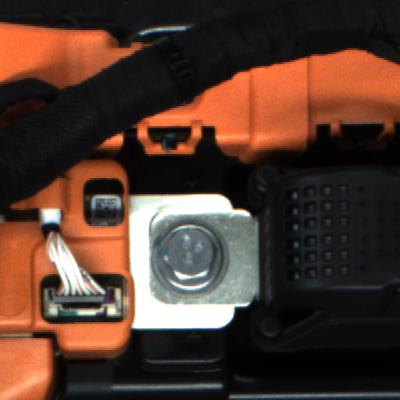nut_b: (146, 221, 228, 299)
